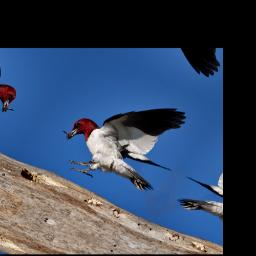Woodpecker: (47, 76, 204, 203)
